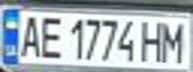1: (63, 15, 84, 60)
4: (115, 17, 142, 63)
7: (81, 16, 103, 61), (100, 16, 121, 61)
A: (15, 12, 45, 59)
E: (36, 12, 66, 60)
H: (139, 18, 166, 63)
M: (157, 18, 190, 63)
